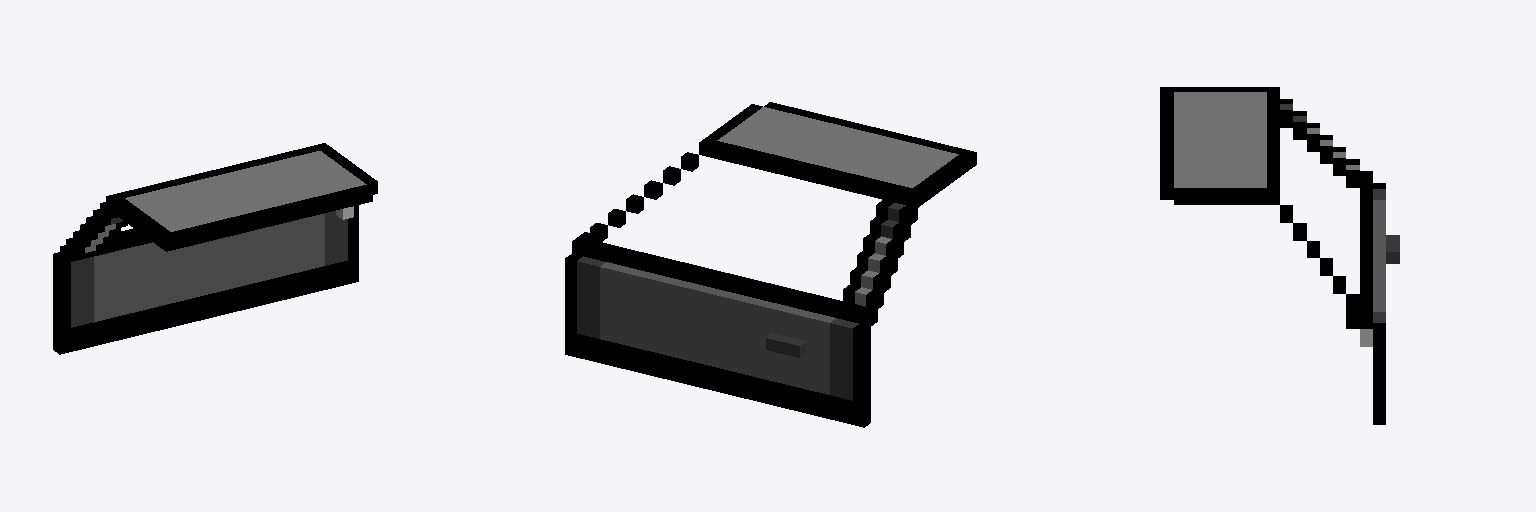
The picture shows the model from 3 angles: view 1: azimuth 30°, elevation 25°; view 2: azimuth 150°, elevation 25°; view 3: azimuth 270°, elevation 25°; orthographic projection.
Parts seen in each view (by area): view 1: PlayerCarDoor; view 2: PlayerCarDoor; view 3: PlayerCarDoor.
Boxes of the visible parts, x1,y1,x2,y2 form: PlayerCarDoor: [53, 143, 377, 354]; PlayerCarDoor: [565, 102, 976, 427]; PlayerCarDoor: [1160, 87, 1399, 424].
Size of the model in its own units: 2.6 by 1.6 by 1.8.
1 materials, 1 textured.